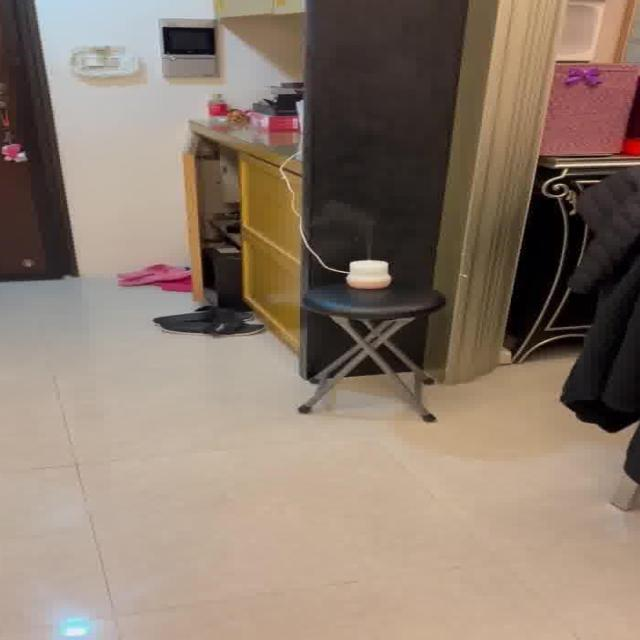fire: (318, 200, 380, 250)
